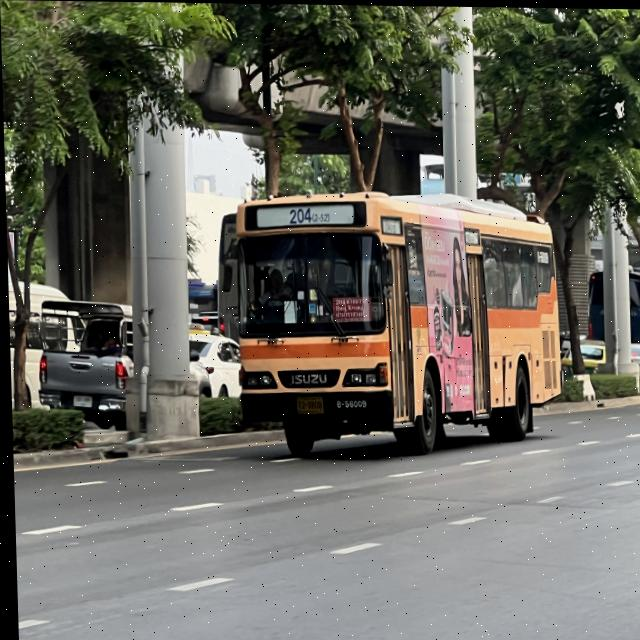BMTA-bus: (227, 182, 565, 450)
Bus-Line-Number: (284, 205, 331, 224)
Destination-Sign-Extra-Bus: (332, 296, 371, 321)
